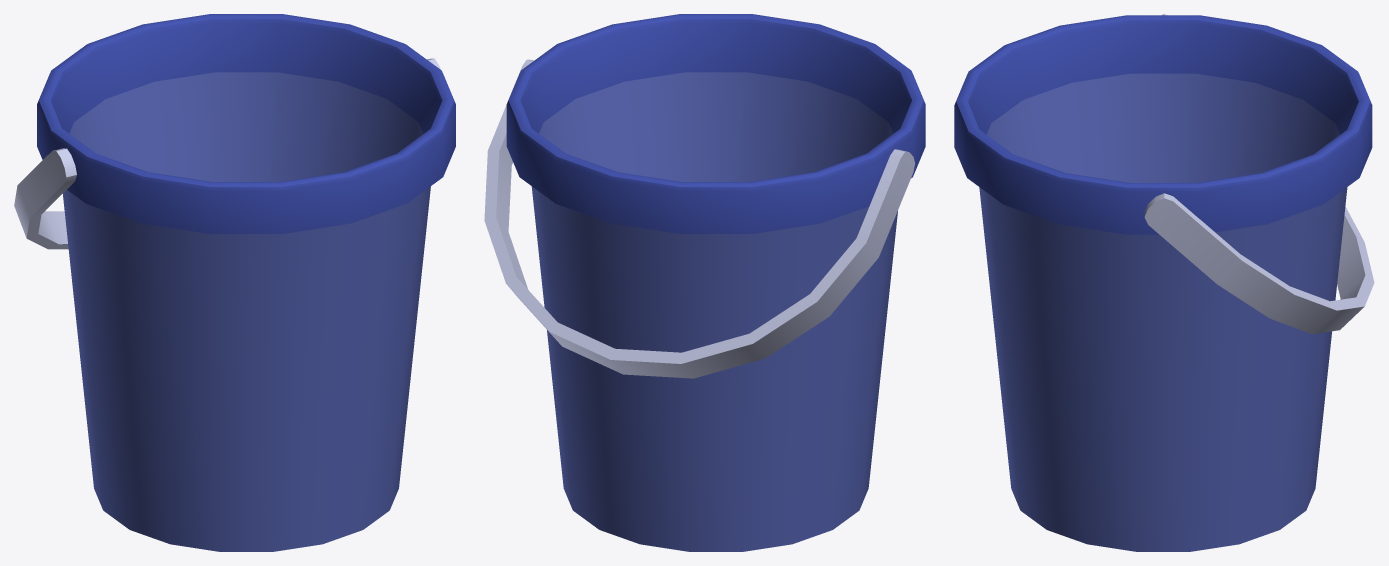
Rendered from Bucket_2.fbx.
3 views of the same model, side by side, from view 1: azimuth 30°, elevation 25°; view 2: azimuth 150°, elevation 25°; view 3: azimuth 270°, elevation 25° (orthographic).
Parts seen in each view (by area): view 1: Bucket_2; view 2: Bucket_2; view 3: Bucket_2.
Part boxes in pixels (bbox=[...]): Bucket_2: bbox=[14, 14, 455, 551]; Bucket_2: bbox=[484, 14, 925, 551]; Bucket_2: bbox=[954, 14, 1374, 551].
Bounding box in the file's own units: 23.9 × 23.51 × 23.02.
Materials: 1 (1 with a texture image).
